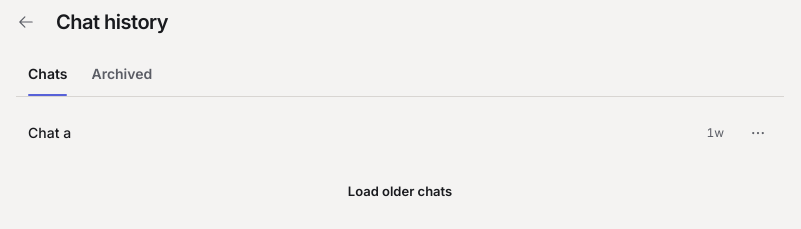
it: keeps existing chats after a page failure and retries the same cursor
expect the button "Chat a" is shown: met, box left=20, top=111, right=694, bottom=155
Click the button "Load older chats". click: [400, 191]
box: left=335, top=173, right=465, bottom=209
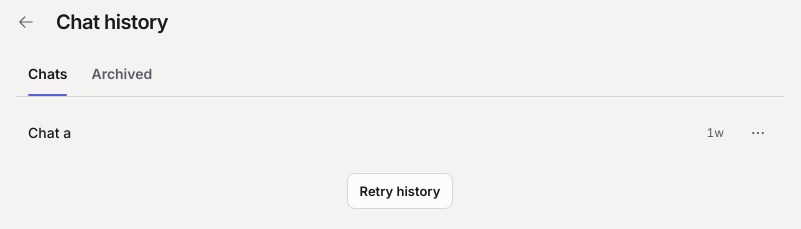
Click the button "Retry history". click: [400, 191]
box: left=347, top=173, right=453, bottom=209
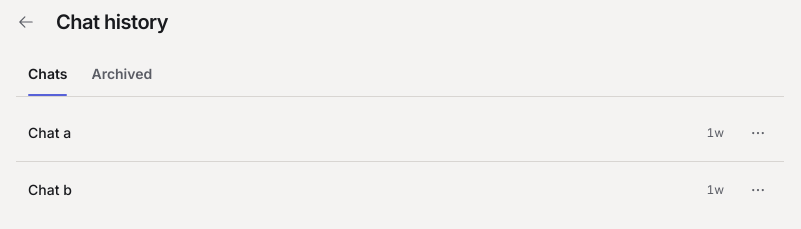
expect the button "Chat a" is shown: met, box left=20, top=111, right=694, bottom=155
expect the button "Chat b" is shown: met, box left=20, top=168, right=694, bottom=212
